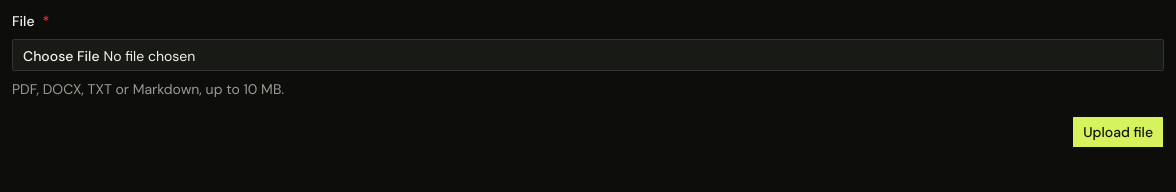
Test: FileIngestForm › rejects unsupported file types
Earlier steps of the test are not shown.
Click the button "Upload file": (1118, 132) [1072,116,1164,148]
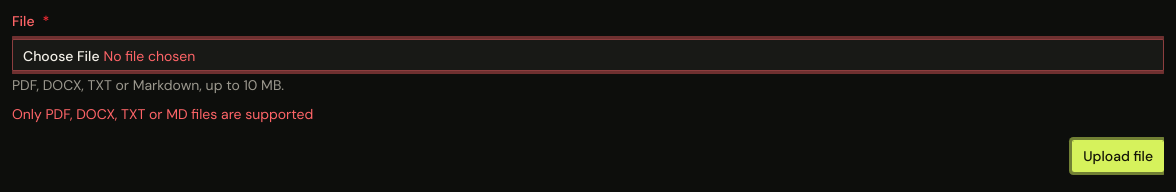
Expected: the text "Only PDF, DOCX, TXT or MD files are supported" is shown, [12,105,313,123]
